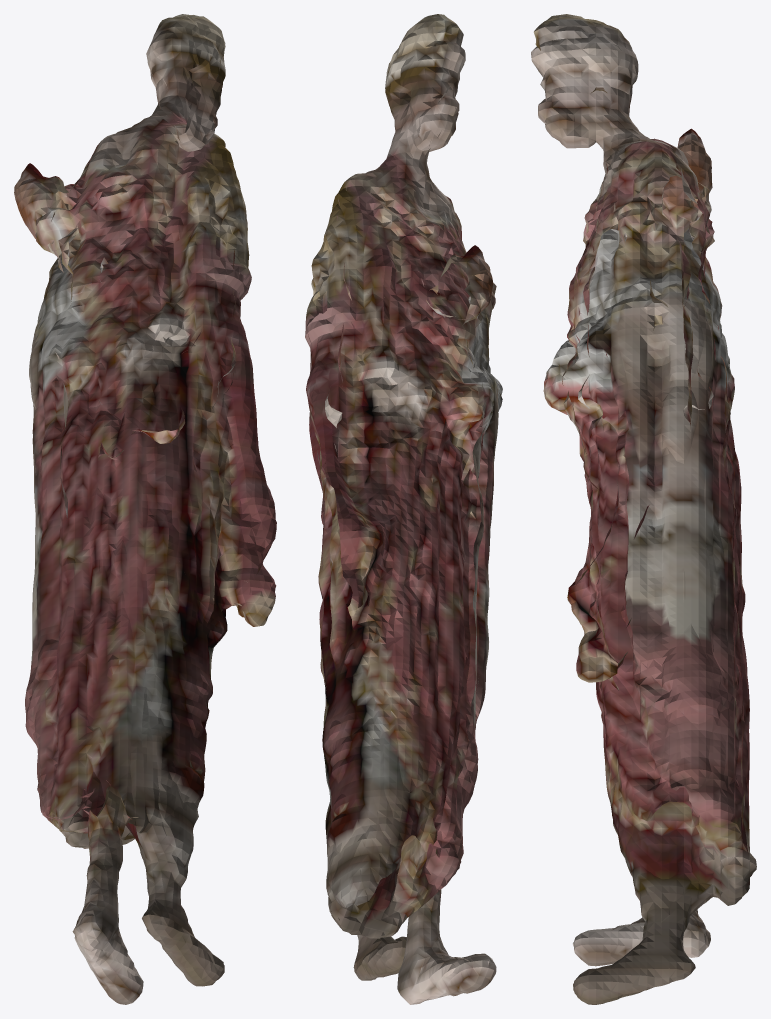
File: caesar_standing_clean.glb
3 renders of one model, left to right at view 1: azimuth 30°, elevation 25°; view 2: azimuth 150°, elevation 25°; view 3: azimuth 270°, elevation 25°, orthographic. The views are drawn at different scales.
Parts seen in each view (by area): view 1: world; view 2: world; view 3: world.
Part boxes in pixels (x1,y1,x2,y2): world: (14,14,276,1004); world: (305,14,502,1004); world: (531,14,756,1004).
Bounding box in the file's own units: 0.2316 × 1 × 0.2102.
